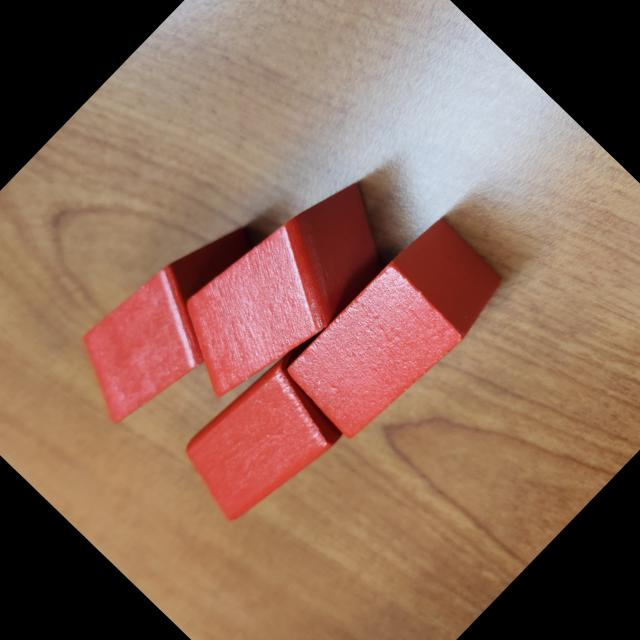red: (150, 153, 414, 420), (51, 199, 296, 447), (277, 210, 514, 450), (166, 332, 374, 540)
